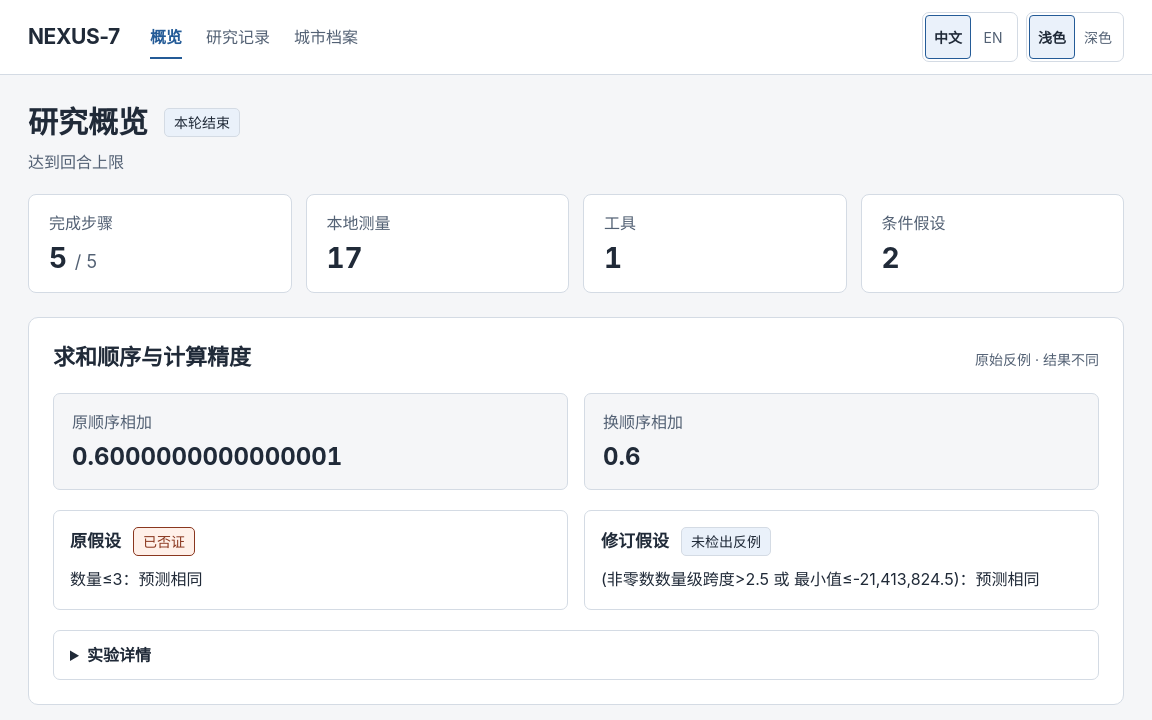
Test case: HumanHome — explicit unit reference fakes, not live research evidence › explains a less-simple revised or condition using its real features and connective
Check: the text with test id "human-revised-idea" shows "非零数数量级跨度>2.5", box [601, 569, 1040, 589]
Check: the text with test id "human-revised-idea" shows "最小值≤-21,413,824.5", box [601, 569, 1040, 589]
Click the button "EN": (993,37) [971, 15, 1015, 59]
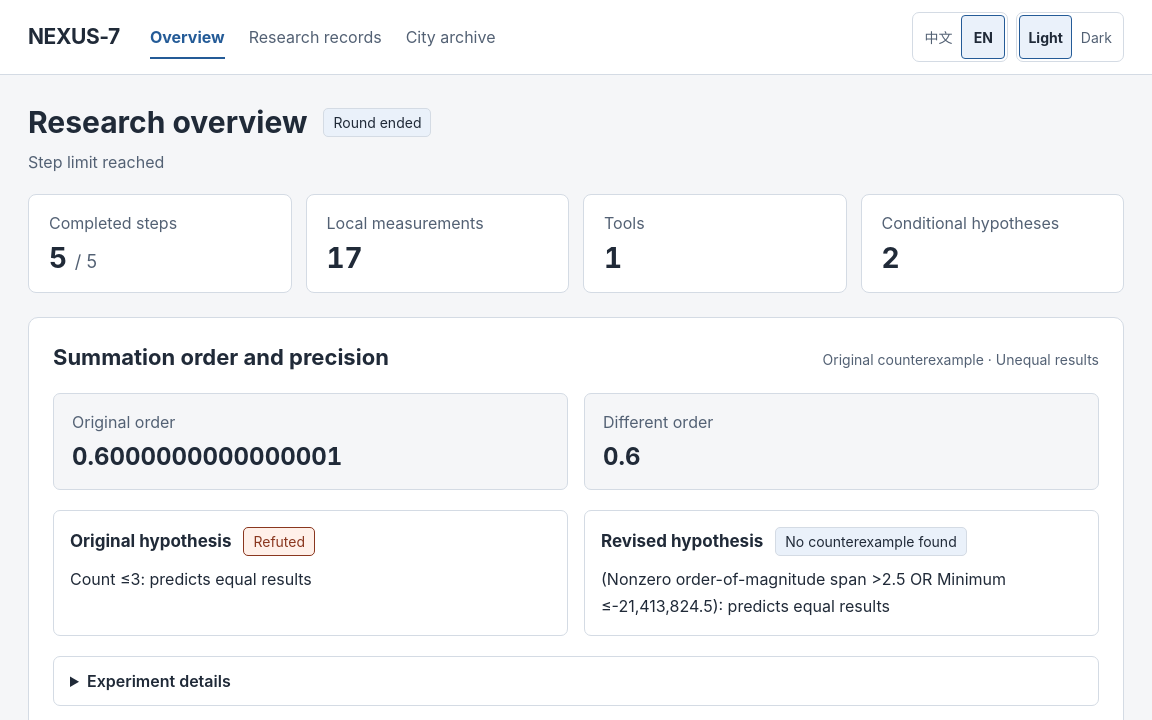
Check: the text with test id "human-revised-idea" shows "Nonzero order-of-magnitude span >2.5", box [601, 569, 1006, 616]
Check: the text with test id "human-revised-idea" shows "or", box [601, 569, 1006, 616]
Check: the text with test id "human-revised-idea" shows "Minimum ≤-21,413,824.5", box [601, 569, 1006, 616]
